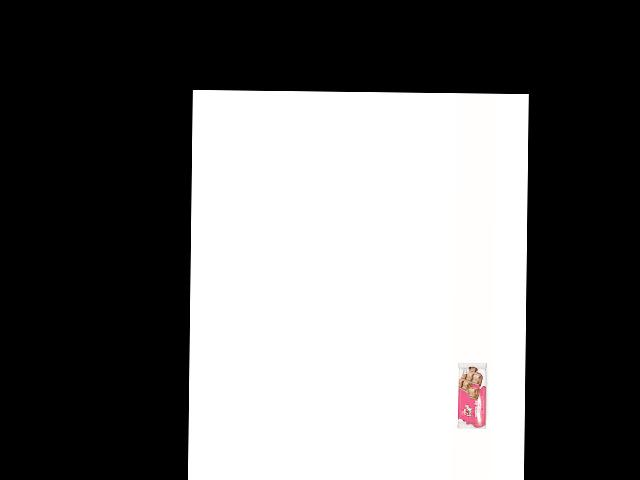chocolate: (461, 361, 502, 440)
